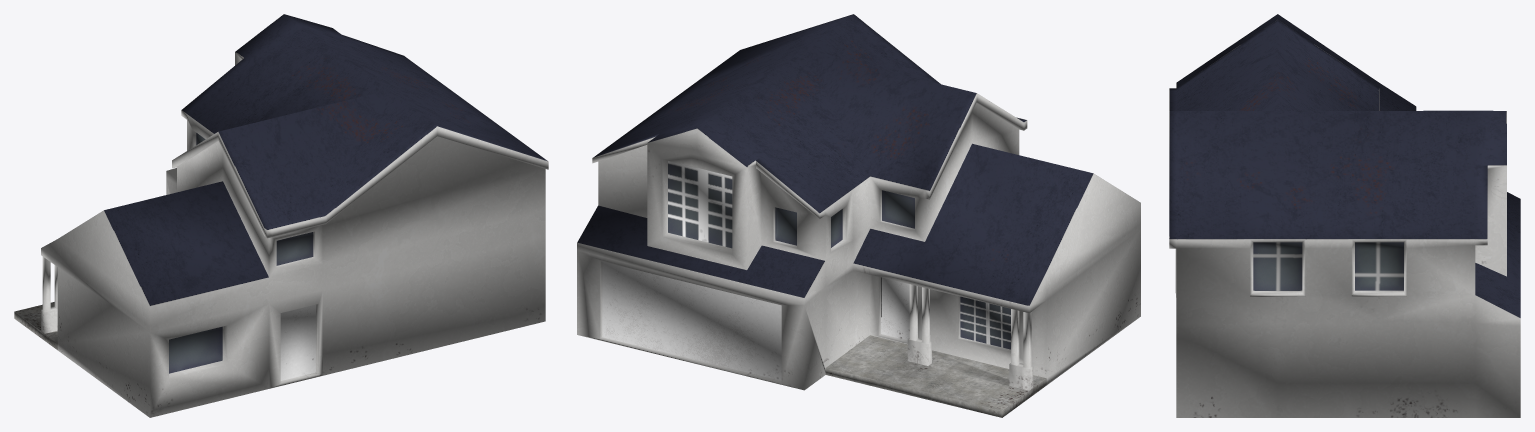
Rendered from Home.glb.
3 views of the same model, side by side, from view 1: azimuth 30°, elevation 25°; view 2: azimuth 150°, elevation 25°; view 3: azimuth 270°, elevation 25° (orthographic). The views are drawn at different scales.
Visible parts, largest first — view 1: Object; view 2: Object; view 3: Object.
Part boxes in pixels (bbox=[...]): Object: bbox=[14, 14, 548, 417]; Object: bbox=[577, 14, 1140, 417]; Object: bbox=[1169, 14, 1520, 417].
Size of what is drawn, in the model's own units: 13.43 by 7.23 by 9.31.
Materials: 1 (1 with a texture image).
